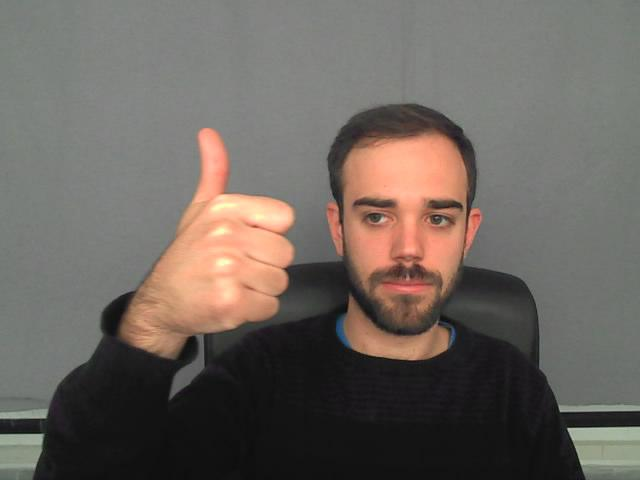thumbs-up: (156, 123, 303, 326)
